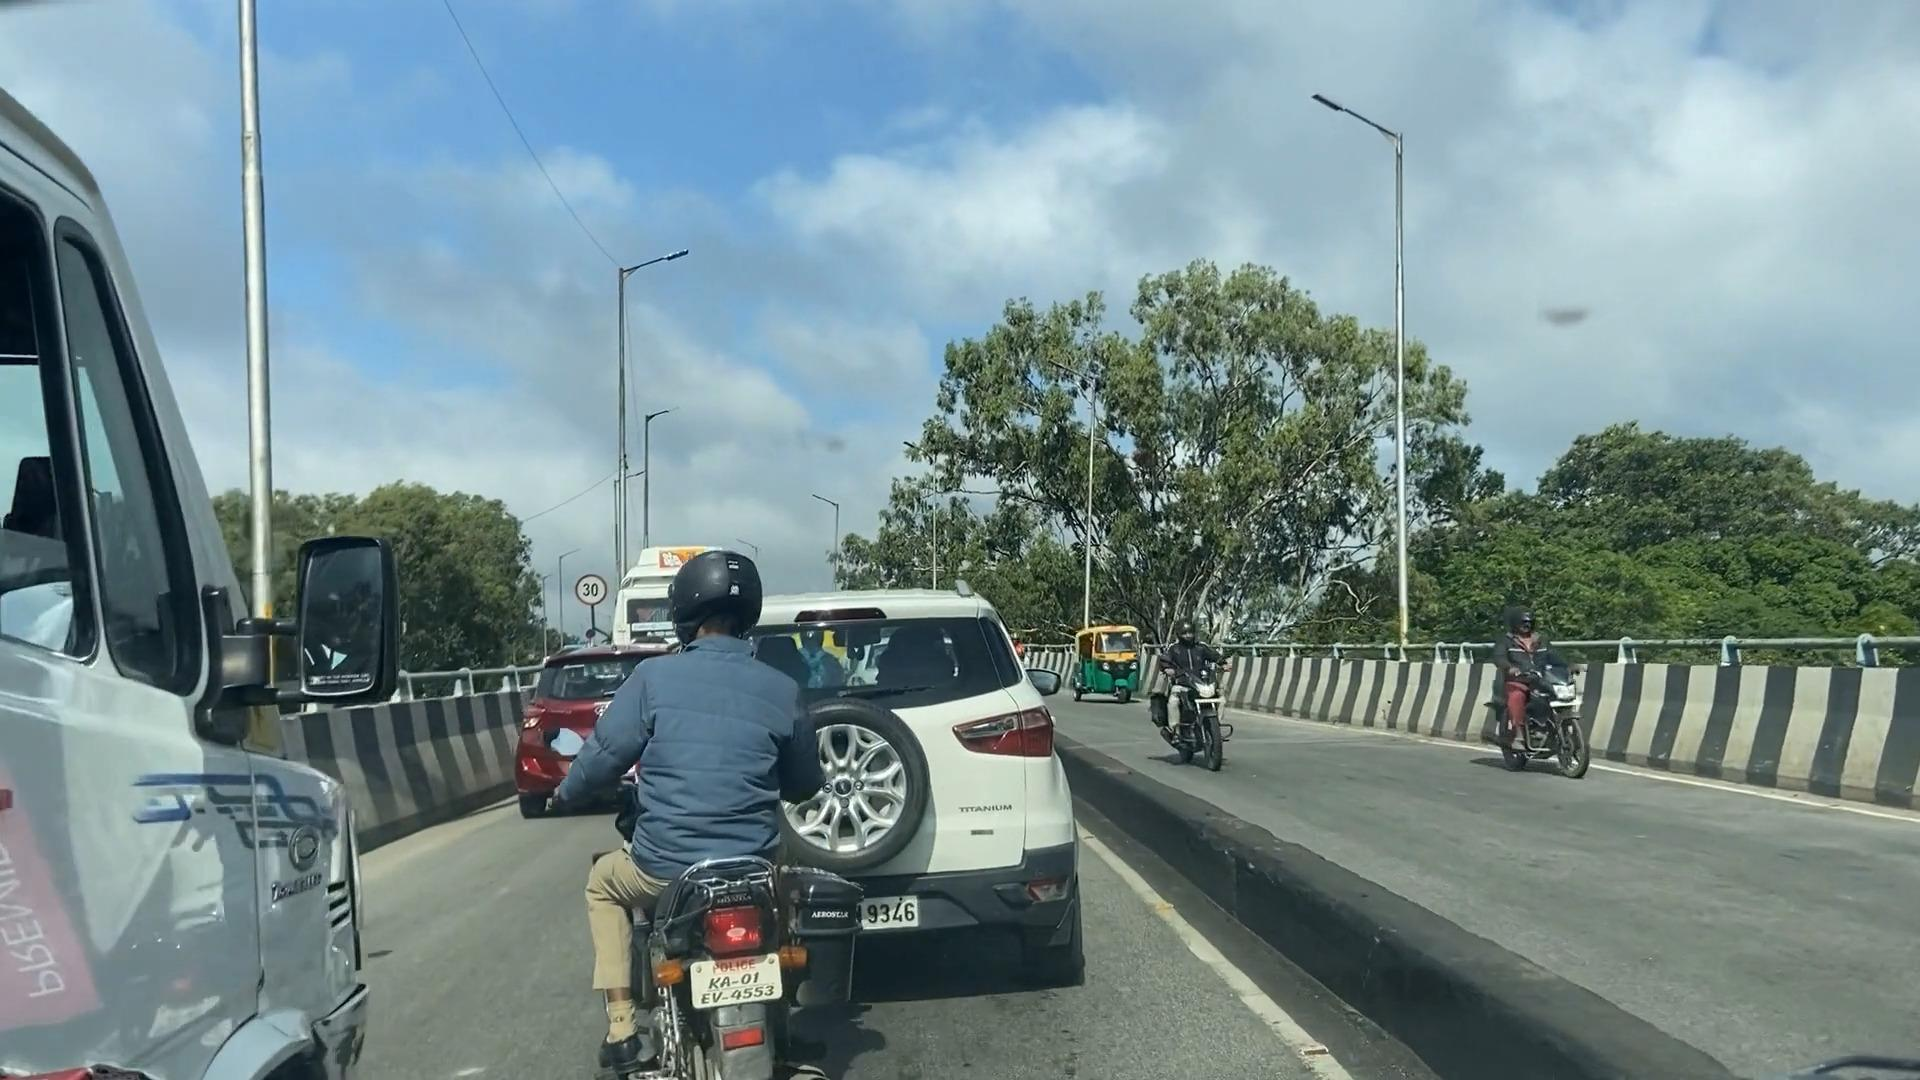LMV: (583, 554, 855, 1080)
